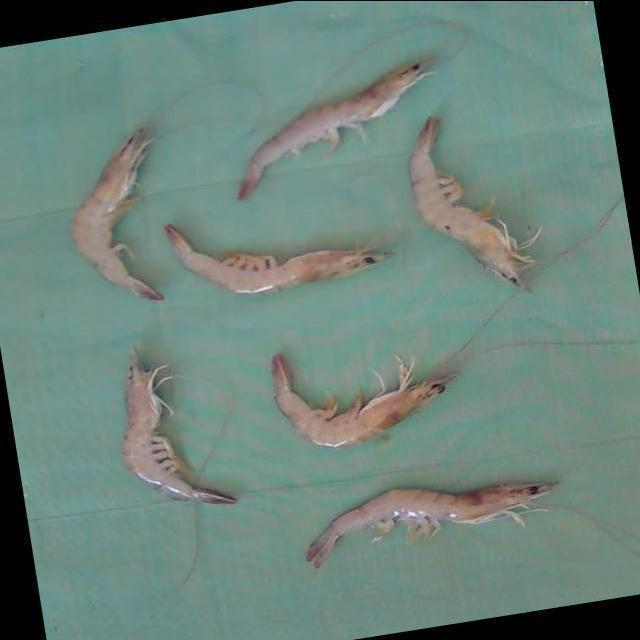shrimp: (238, 56, 433, 199), (410, 116, 543, 291), (306, 483, 559, 568), (121, 348, 236, 504), (272, 353, 456, 447), (70, 126, 162, 300), (164, 223, 391, 292)
